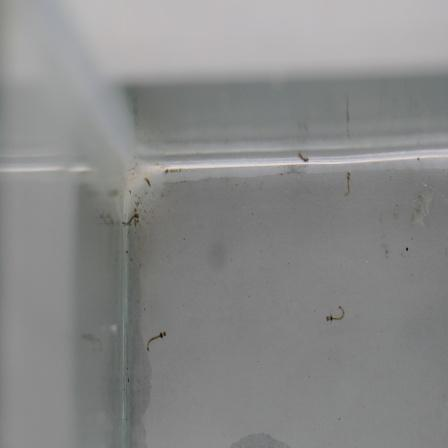Jentik-Nyamuk: (144, 326, 171, 357), (323, 302, 351, 330)
